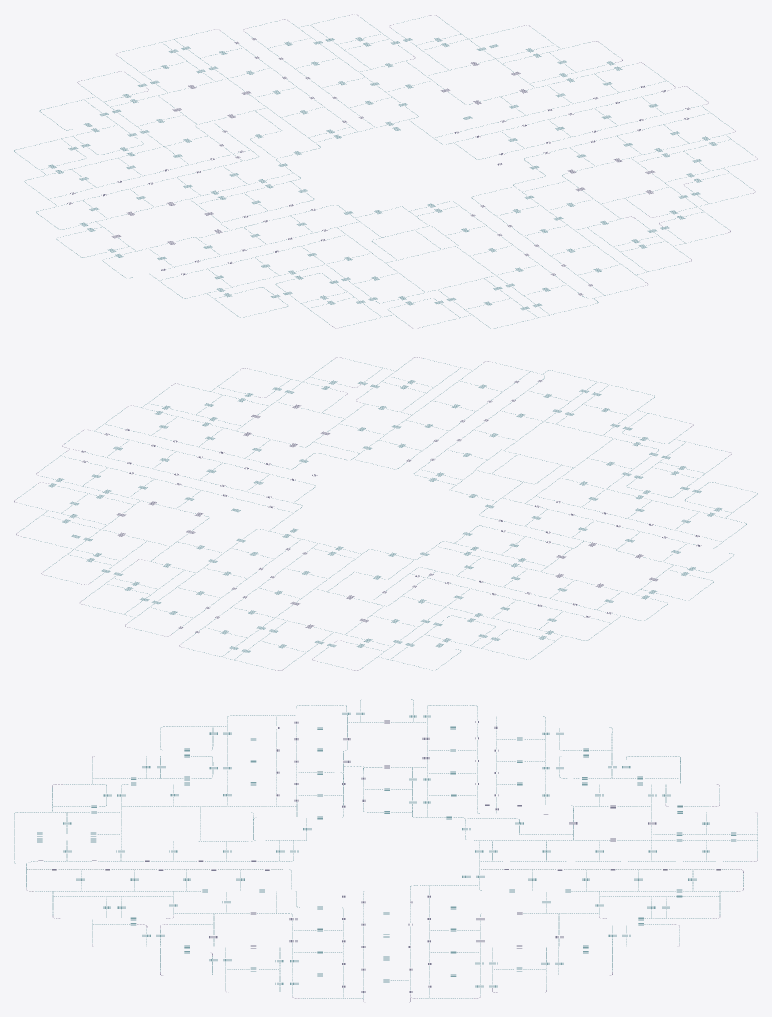
Rendered from Markings_D7.fbx.
The picture shows the model from 3 angles, top to bottom: view 1: azimuth 30°, elevation 25°; view 2: azimuth 150°, elevation 25°; view 3: azimuth 270°, elevation 25°; orthographic projection.
Size of the model in its own units: 231299 by 3.73 by 239622.
1 material, 1 textured.
